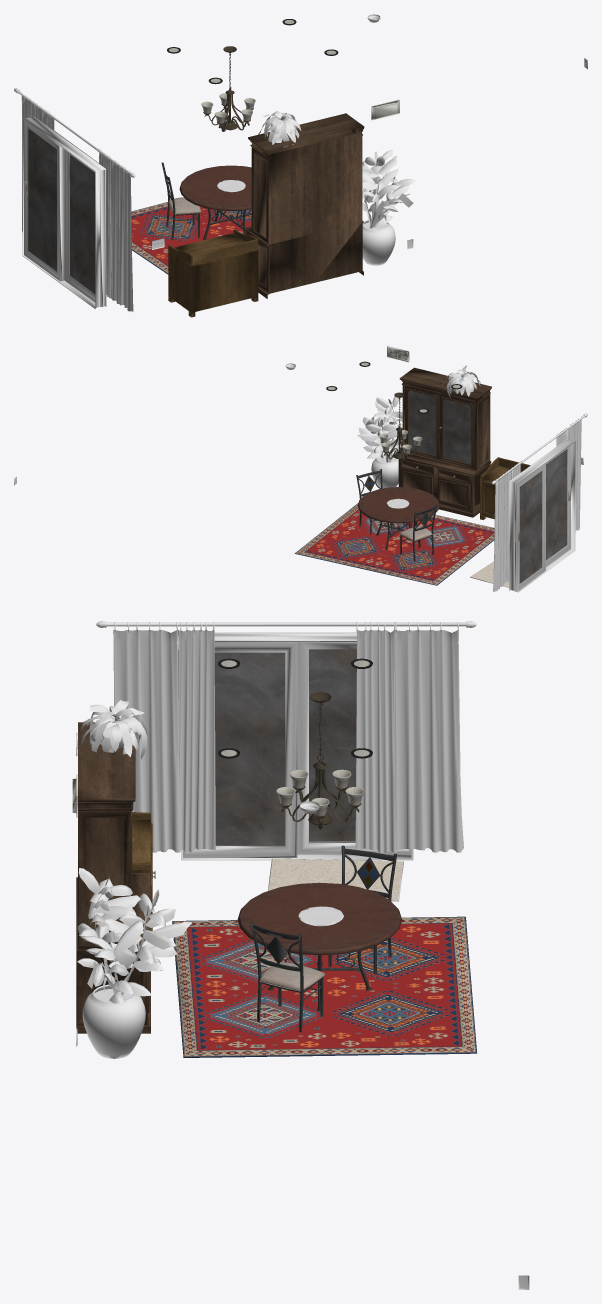
Rendered from Dinningroom.fbx.
The picture shows the model from 3 angles, top to bottom: view 1: azimuth 30°, elevation 25°; view 2: azimuth 150°, elevation 25°; view 3: azimuth 270°, elevation 25°; orthographic projection. The views are drawn at different scales.
Parts seen in each view (by area): view 1: DiningRoom-Kitchen-Cabinets-Wood-Dark_0.1_0_0.002, DiningRoom-Cabinets-White_0.002, DiningRoom-Windows-Basic_0.001, DiningRoom-Windows-Basic_0.1, DiningRoom-Killim-Rugs-Style-01_0.1_0_0.001, DiningRoom-Curtain-Green_0.1, DiningRoom-Dining-Set-Iron-Table_0.1_0_0.000, DiningRoom-Trim-Basic-Door_0.1, DiningRoom-Bush-Sumac_0.1_0_0.000, DiningRoom-Chandelier_0.1_0_0.000, DiningRoom-Ceramic-Pot-G_0.1_0_0.000, DiningRoom-Curtain-White_0.1 (+4 smaller); view 2: DiningRoom-Kitchen-Cabinets-Wood-Dark_0.1_0_0.002, DiningRoom-Killim-Rugs-Style-01_0.1_0_0.001, DiningRoom-Windows-Basic_0.001, DiningRoom-Windows-Basic_0.1, DiningRoom-Curtain-Green_0.1, DiningRoom-Dining-Set-Iron-Table_0.1_0_0.000, DiningRoom-Trim-Basic-Door_0.1, DiningRoom-Bush-Sumac_0.1_0_0.000, DiningRoom-Dining-Set-Iron-Chair_0.1_0_0.000, DiningRoom-Cabinets-White_0.002, DiningRoom-Chandelier_0.1_0_0.000, DiningRoom-Ceramic-Pot-G_0.1_0_0.000 (+2 smaller); view 3: DiningRoom-Killim-Rugs-Style-01_0.1_0_0.001, DiningRoom-Curtain-Green_0.1, DiningRoom-Windows-Basic_0.1, DiningRoom-Curtain-White_0.1, DiningRoom-Kitchen-Cabinets-Wood-Dark_0.1_0_0.002, DiningRoom-Windows-Basic_0.001, DiningRoom-Dining-Set-Iron-Table_0.1_0_0.000, DiningRoom-Bush-Sumac_0.1_0_0.000, DiningRoom-Dining-Set-Iron-Chair_0.1_0_0.000, DiningRoom-Ceramic-Pot-G_0.1_0_0.000, DiningRoom-Trim-Basic_0.1, DiningRoom-Chandelier_0.1_0_0.000 (+4 smaller).
Part boxes in pixels (x1,y1,x2,y2): DiningRoom-Kitchen-Cabinets-Wood-Dark_0.1_0_0.002: [244, 113, 364, 298]; DiningRoom-Cabinets-White_0.002: [168, 229, 258, 317]; DiningRoom-Windows-Basic_0.001: [24, 118, 64, 281]; DiningRoom-Windows-Basic_0.1: [64, 149, 105, 306]; DiningRoom-Killim-Rugs-Style-01_0.1_0_0.001: [131, 202, 251, 274]; DiningRoom-Curtain-Green_0.1: [21, 96, 133, 311]; DiningRoom-Dining-Set-Iron-Table_0.1_0_0.000: [179, 165, 251, 239]; DiningRoom-Trim-Basic-Door_0.1: [22, 115, 106, 308]; DiningRoom-Bush-Sumac_0.1_0_0.000: [362, 150, 415, 228]; DiningRoom-Chandelier_0.1_0_0.000: [201, 46, 255, 131]; DiningRoom-Ceramic-Pot-G_0.1_0_0.000: [362, 220, 395, 265]; DiningRoom-Curtain-White_0.1: [42, 111, 111, 298]; DiningRoom-Kitchen-Cabinets-Wood-Dark_0.1_0_0.002: [398, 367, 491, 517]; DiningRoom-Killim-Rugs-Style-01_0.1_0_0.001: [294, 503, 494, 585]; DiningRoom-Windows-Basic_0.001: [513, 463, 545, 591]; DiningRoom-Windows-Basic_0.1: [546, 440, 571, 566]; DiningRoom-Curtain-Green_0.1: [493, 420, 581, 591]; DiningRoom-Dining-Set-Iron-Table_0.1_0_0.000: [357, 487, 439, 549]; DiningRoom-Trim-Basic-Door_0.1: [509, 439, 575, 592]; DiningRoom-Bush-Sumac_0.1_0_0.000: [357, 392, 402, 462]; DiningRoom-Dining-Set-Iron-Chair_0.1_0_0.000: [356, 469, 437, 561]; DiningRoom-Cabinets-White_0.002: [480, 457, 530, 519]; DiningRoom-Chandelier_0.1_0_0.000: [379, 392, 422, 460]; DiningRoom-Ceramic-Pot-G_0.1_0_0.000: [371, 454, 398, 488]; DiningRoom-Killim-Rugs-Style-01_0.1_0_0.001: [172, 916, 477, 1057]; DiningRoom-Curtain-Green_0.1: [113, 630, 463, 852]; DiningRoom-Windows-Basic_0.1: [183, 642, 297, 857]; DiningRoom-Curtain-White_0.1: [178, 630, 397, 853]; DiningRoom-Kitchen-Cabinets-Wood-Dark_0.1_0_0.002: [76, 722, 150, 1033]; DiningRoom-Windows-Basic_0.001: [297, 642, 411, 854]; DiningRoom-Dining-Set-Iron-Table_0.1_0_0.000: [237, 882, 401, 1011]; DiningRoom-Bush-Sumac_0.1_0_0.000: [77, 868, 191, 1003]; DiningRoom-Dining-Set-Iron-Chair_0.1_0_0.000: [250, 845, 396, 1032]; DiningRoom-Ceramic-Pot-G_0.1_0_0.000: [82, 984, 145, 1058]; DiningRoom-Trim-Basic_0.1: [268, 858, 403, 901]; DiningRoom-Chandelier_0.1_0_0.000: [276, 692, 364, 829].
Size of the model in its own units: 10.94 by 4.55 by 3.23.
